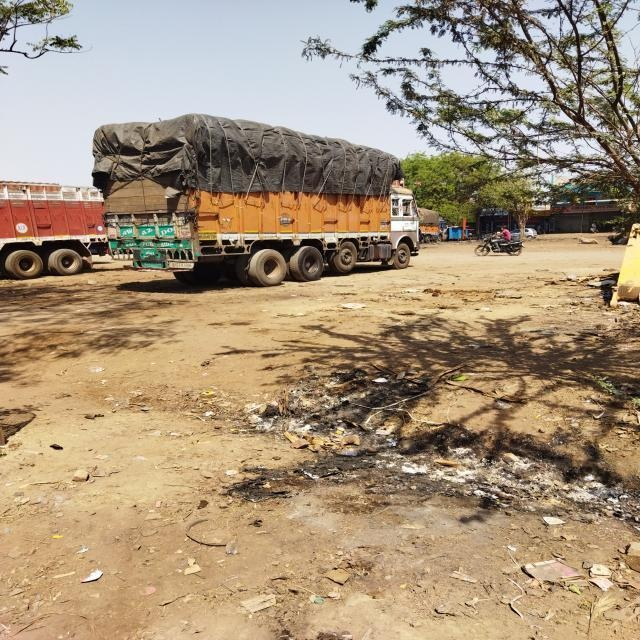Truck: (88, 117, 420, 268)
